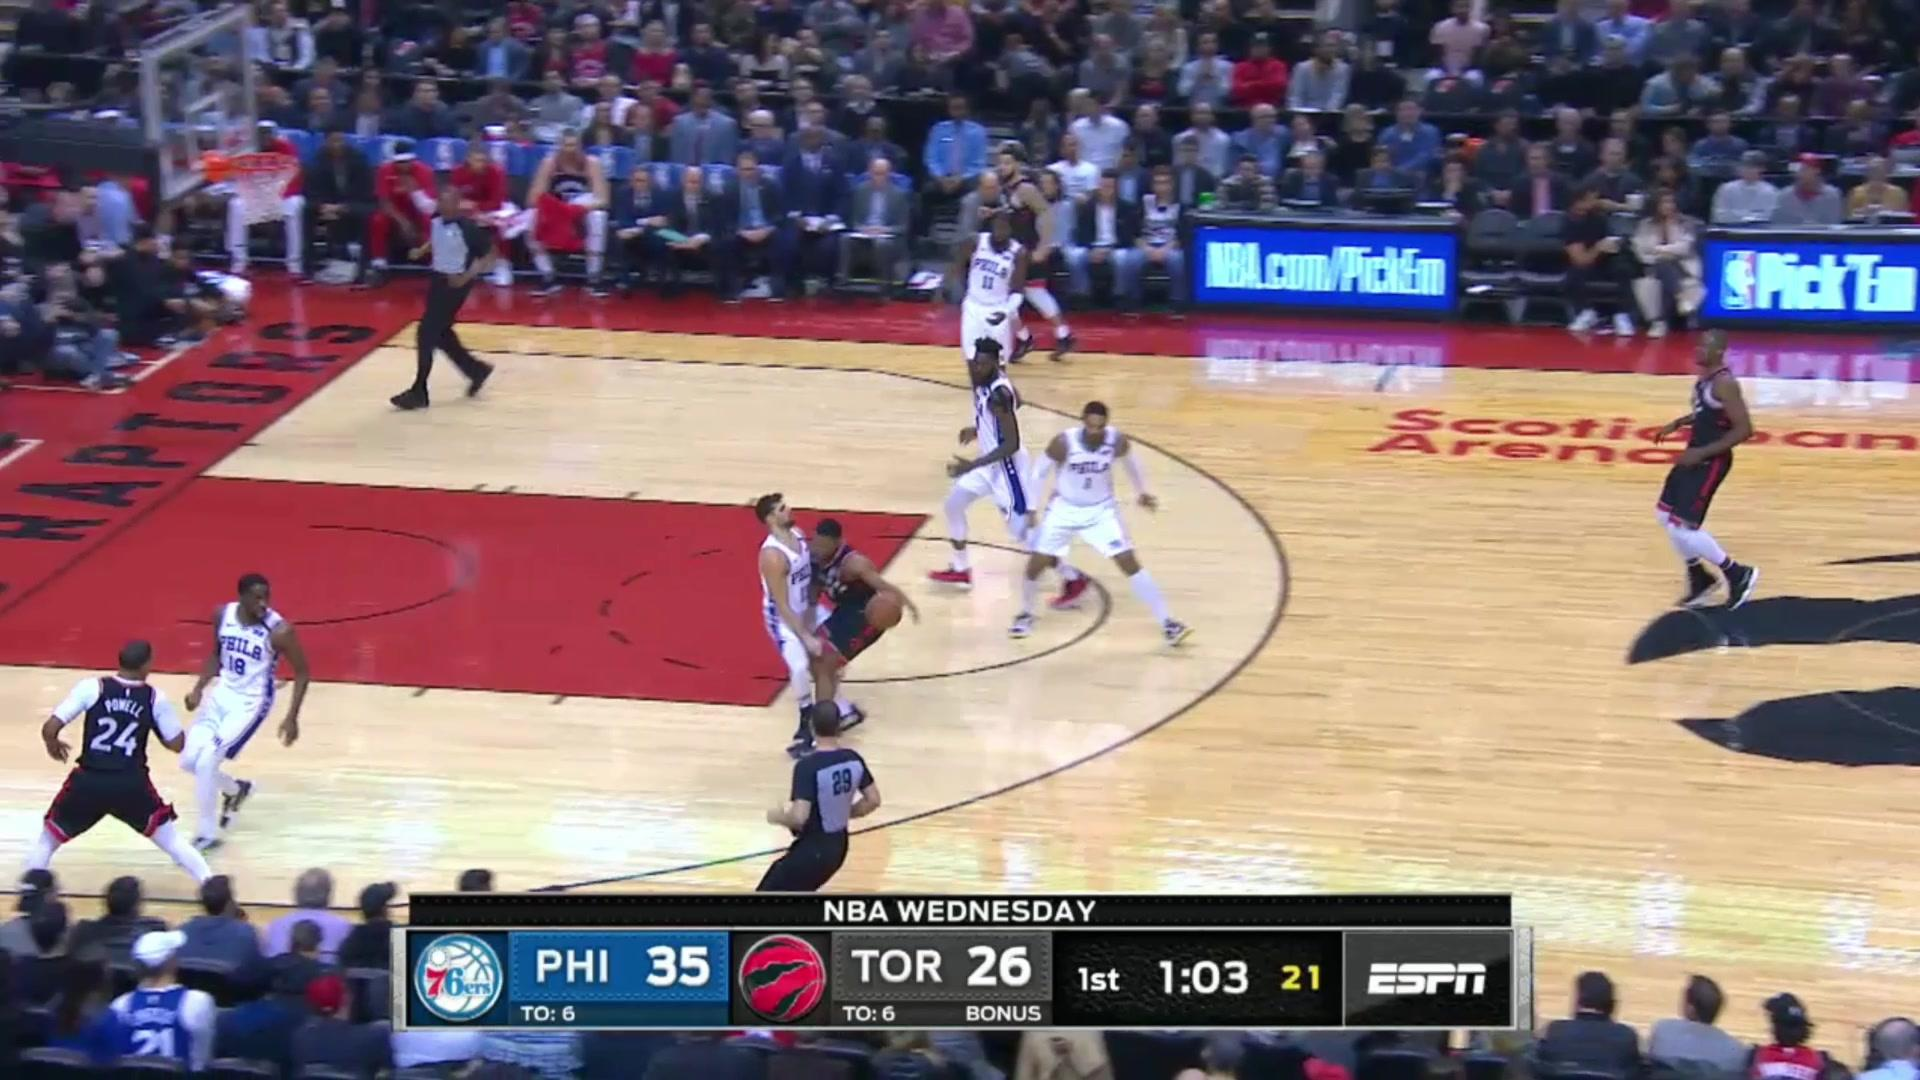foul: (732, 463, 918, 721)
